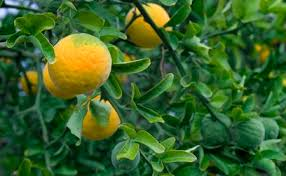orange: (46, 28, 113, 92), (121, 3, 174, 50), (76, 96, 124, 145)
